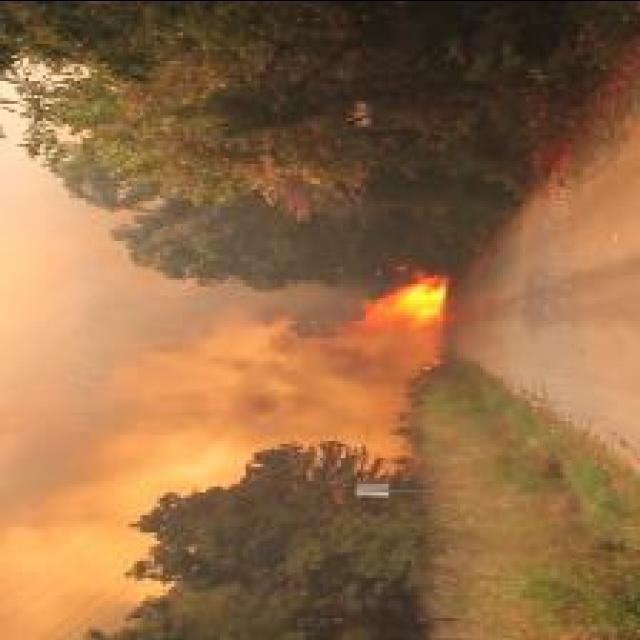Fire: (353, 260, 450, 340)
